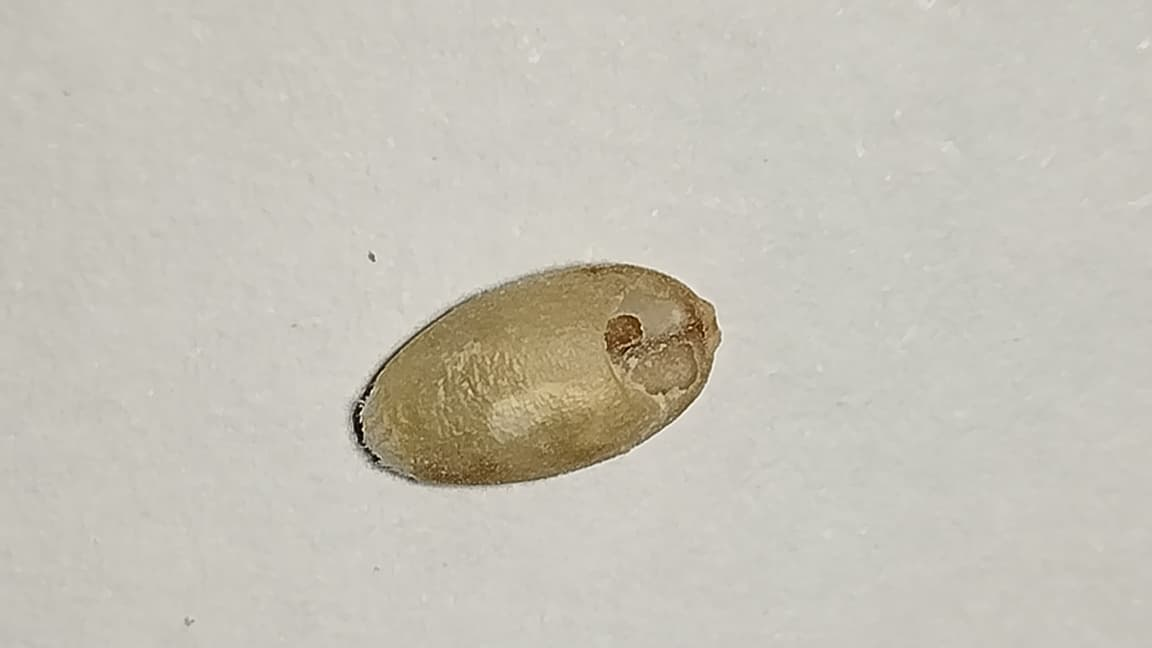damage: (360, 266, 719, 484)
insectdamage: (603, 274, 721, 420)
